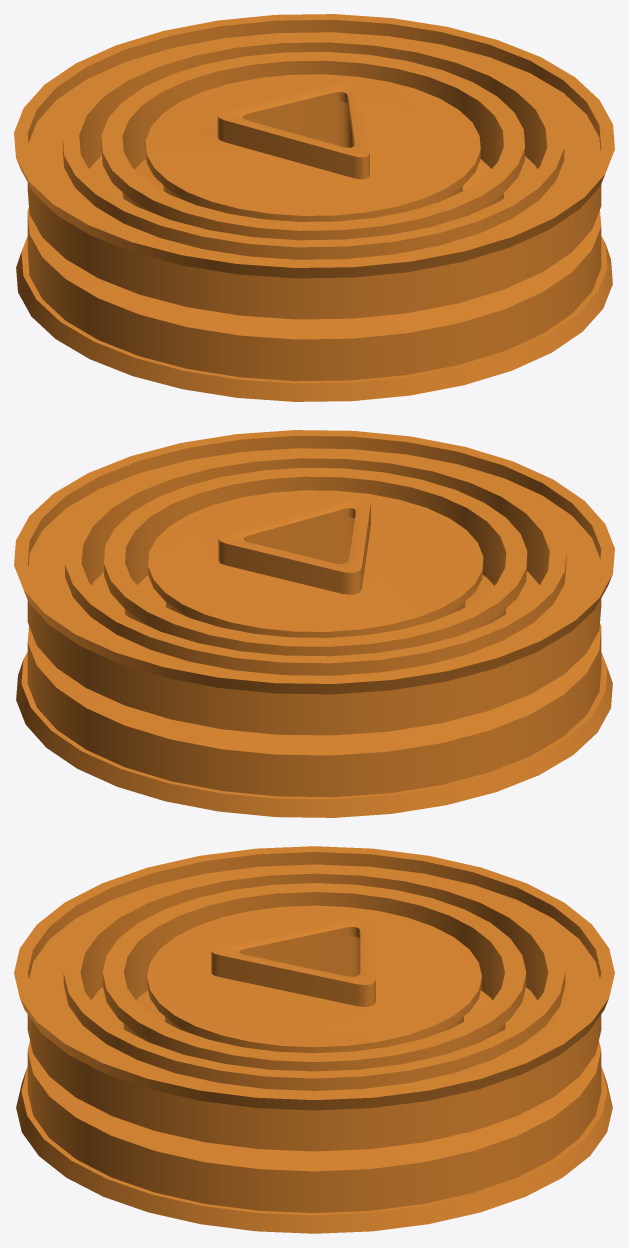
Rendered from PlayButton.fbx.
The picture shows the model from 3 angles, top to bottom: view 1: azimuth 30°, elevation 25°; view 2: azimuth 150°, elevation 25°; view 3: azimuth 270°, elevation 25°; orthographic projection.
Visible parts, largest first — view 1: PlayButton; view 2: PlayButton; view 3: PlayButton.
Boxes of the visible parts, x1=… form: PlayButton: x1=14, y1=14, x2=614, y2=401; PlayButton: x1=14, y1=430, x2=614, y2=817; PlayButton: x1=14, y1=846, x2=614, y2=1233.
Size of the model in its own units: 347 by 99.58 by 347.
